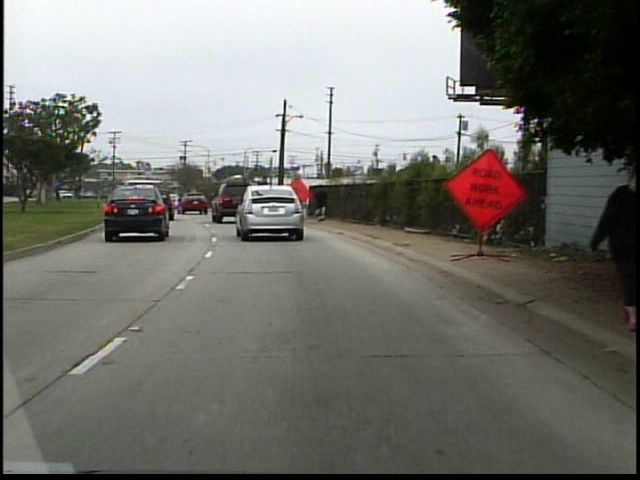person: (578, 156, 633, 318), (313, 183, 329, 224)
